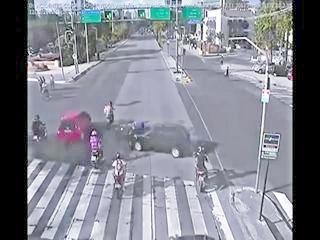Car: (132, 119, 189, 156), (58, 111, 92, 141)
Minor Accident: (119, 113, 190, 158)
Motor: (88, 129, 106, 171), (193, 146, 208, 193), (114, 154, 126, 200), (31, 114, 48, 145), (119, 115, 136, 141), (36, 73, 50, 103), (102, 100, 114, 128)
